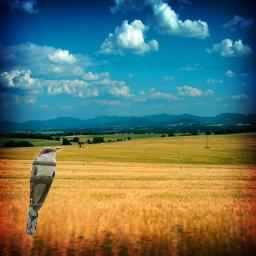Cuckoo: (26, 147, 62, 236)
